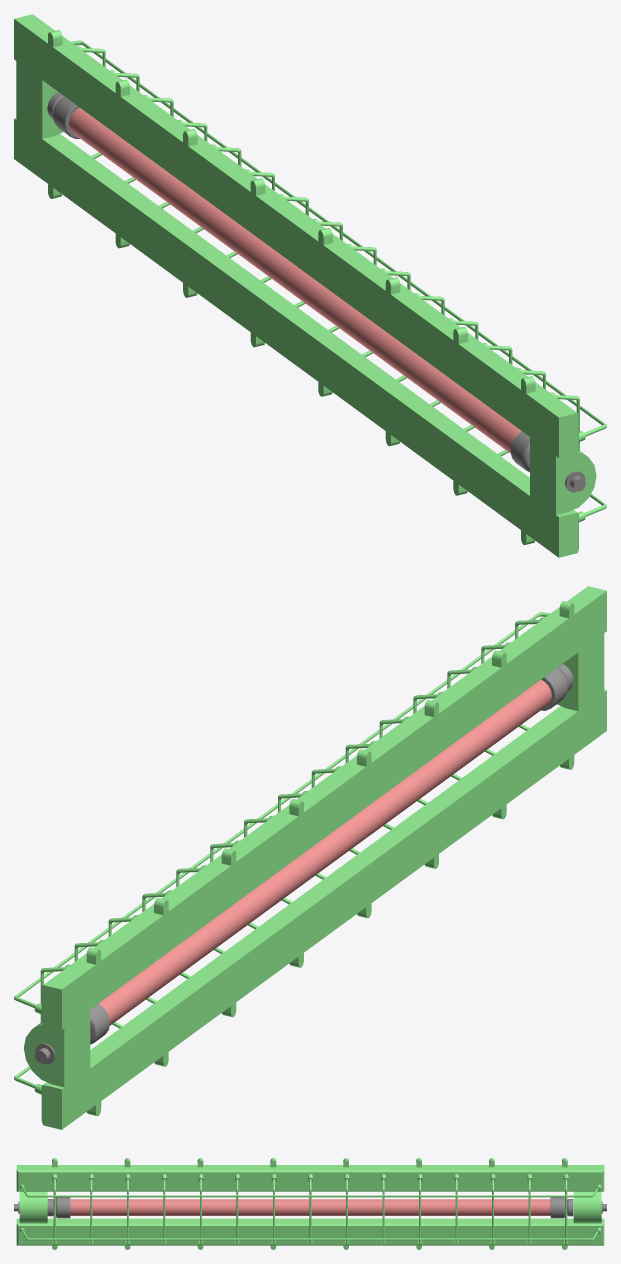
File: SM_Light_B.gltf
3 renders of one model, top to bottom at view 1: azimuth 30°, elevation 25°; view 2: azimuth 150°, elevation 25°; view 3: azimuth 270°, elevation 25°, orthographic. The views are drawn at different scales.
Parts seen in each view (by area): view 1: SM_Light_B; view 2: SM_Light_B; view 3: SM_Light_B.
Part boxes in pixels (x1=…): SM_Light_B: x1=14, y1=14, x2=606, y2=557; SM_Light_B: x1=14, y1=586, x2=606, y2=1129; SM_Light_B: x1=14, y1=1158, x2=606, y2=1249.
Size of the model in its own units: 0.1019 by 0.2769 by 1.66.
